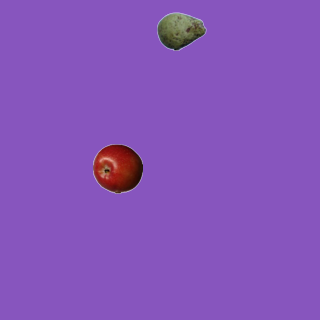Apple Braeburn: (92, 143, 142, 193)
Pear Stone: (156, 6, 206, 56)
